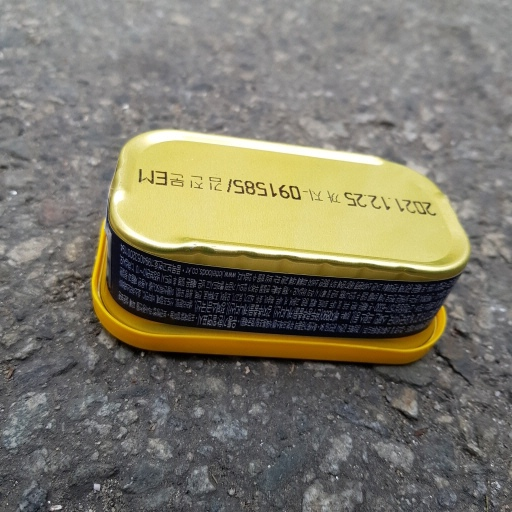Metal_2: (84, 127, 474, 370)
